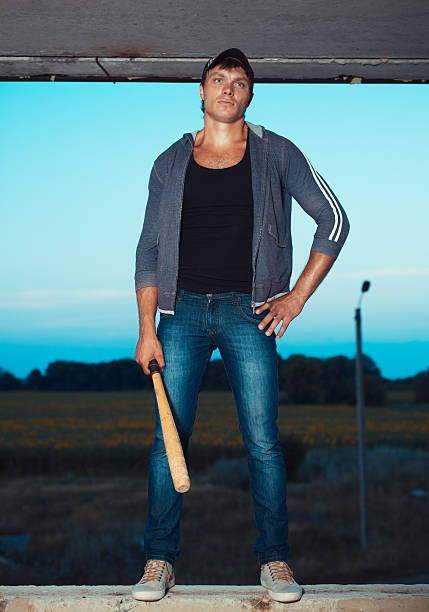bita: (145, 348, 188, 490)
